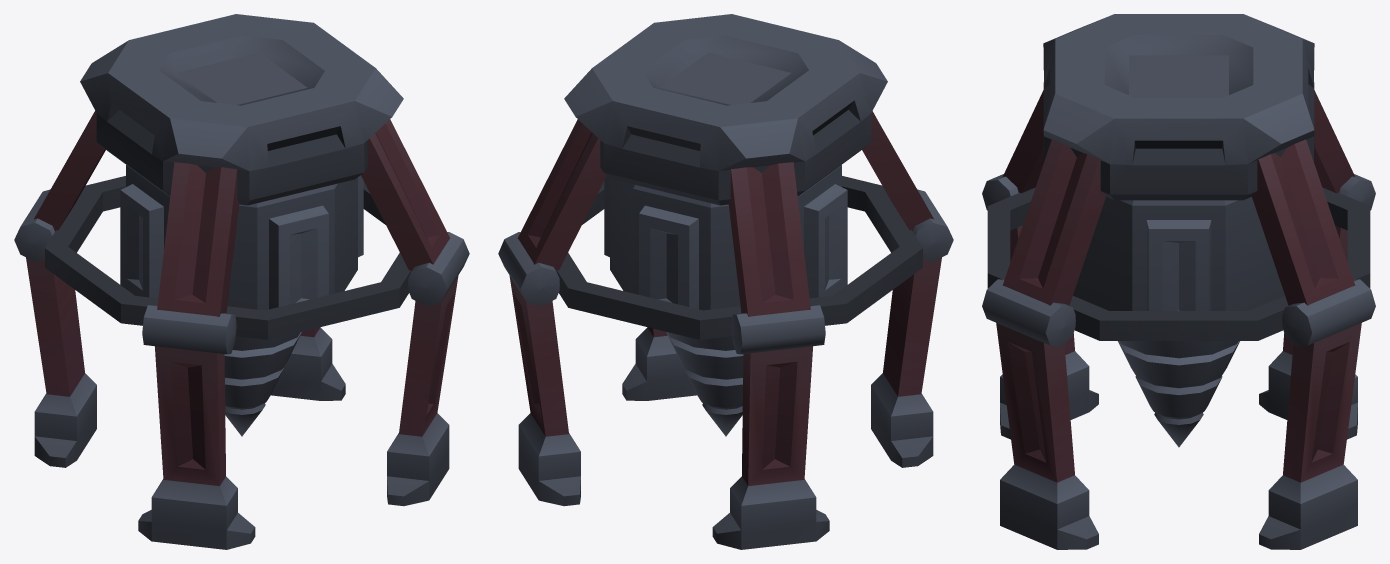
Rendered from drill_structure.glb.
3 renders of one model, left to right at view 1: azimuth 30°, elevation 25°; view 2: azimuth 150°, elevation 25°; view 3: azimuth 270°, elevation 25°, orthographic. The views are drawn at different scales.
Parts seen in each view (by area): view 1: drill_structure, drill_module; view 2: drill_structure, drill_module; view 3: drill_structure, drill_module.
Part boxes in pixels (x1,y1,x2,y2): drill_structure: (14, 14, 469, 549); drill_module: (120, 165, 363, 436); drill_structure: (498, 14, 953, 549); drill_module: (604, 165, 847, 436); drill_structure: (982, 14, 1375, 549); drill_module: (1073, 197, 1284, 447).
Size of the model in its own units: 1.75 by 2 by 1.75.
Materials: 1 (1 with a texture image).
